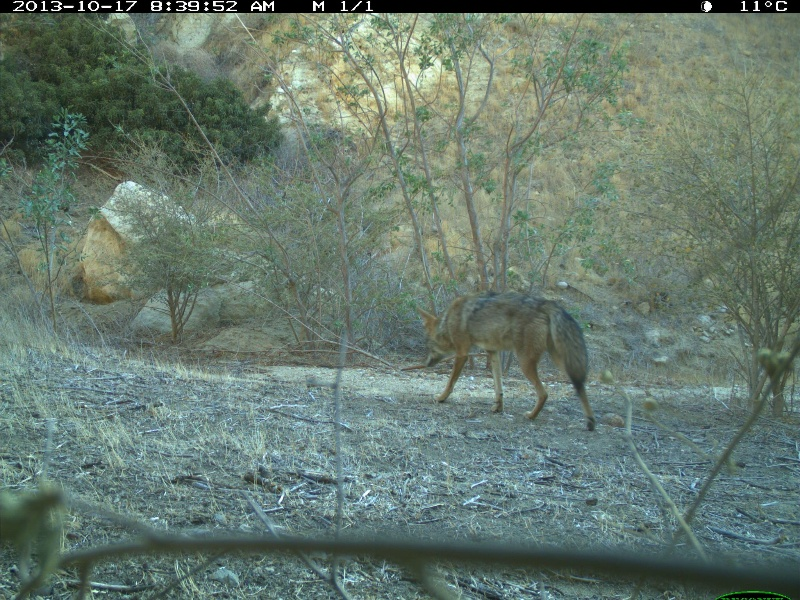coyote: (411, 289, 605, 437)
